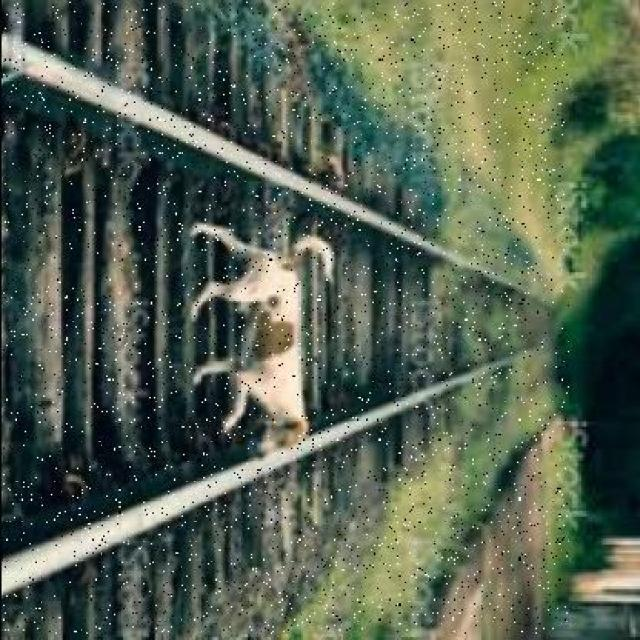rail: (1, 3, 568, 635)
